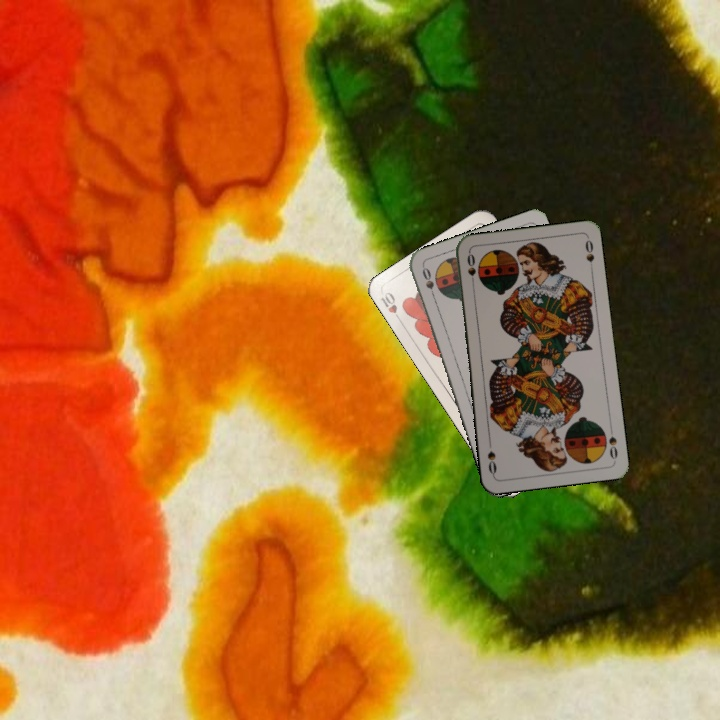H10: (376, 288, 405, 325)
SO: (418, 263, 438, 303), (463, 249, 478, 290), (605, 422, 620, 462)
